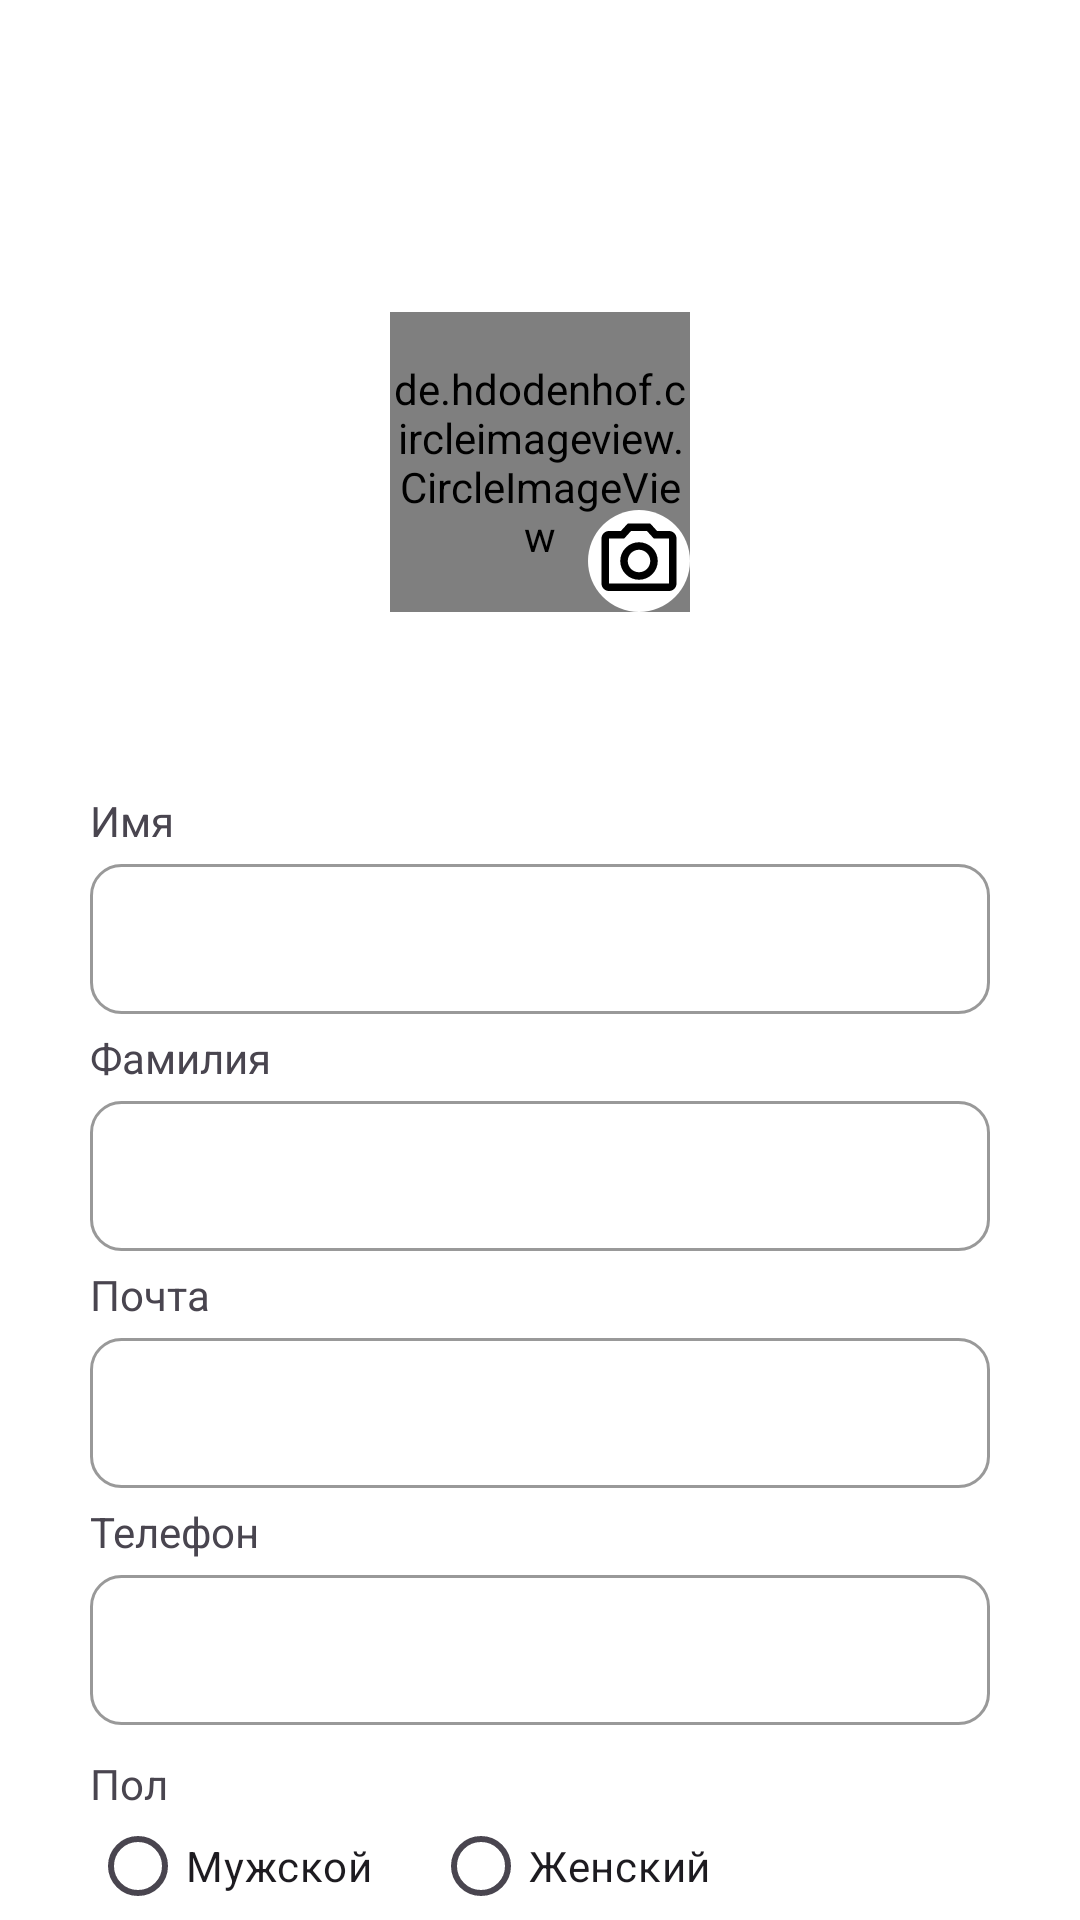

Icon click points for this 1080w x 1920h phone screenshot, format (x=x, y=y):
photo camera: (x=639, y=561)
